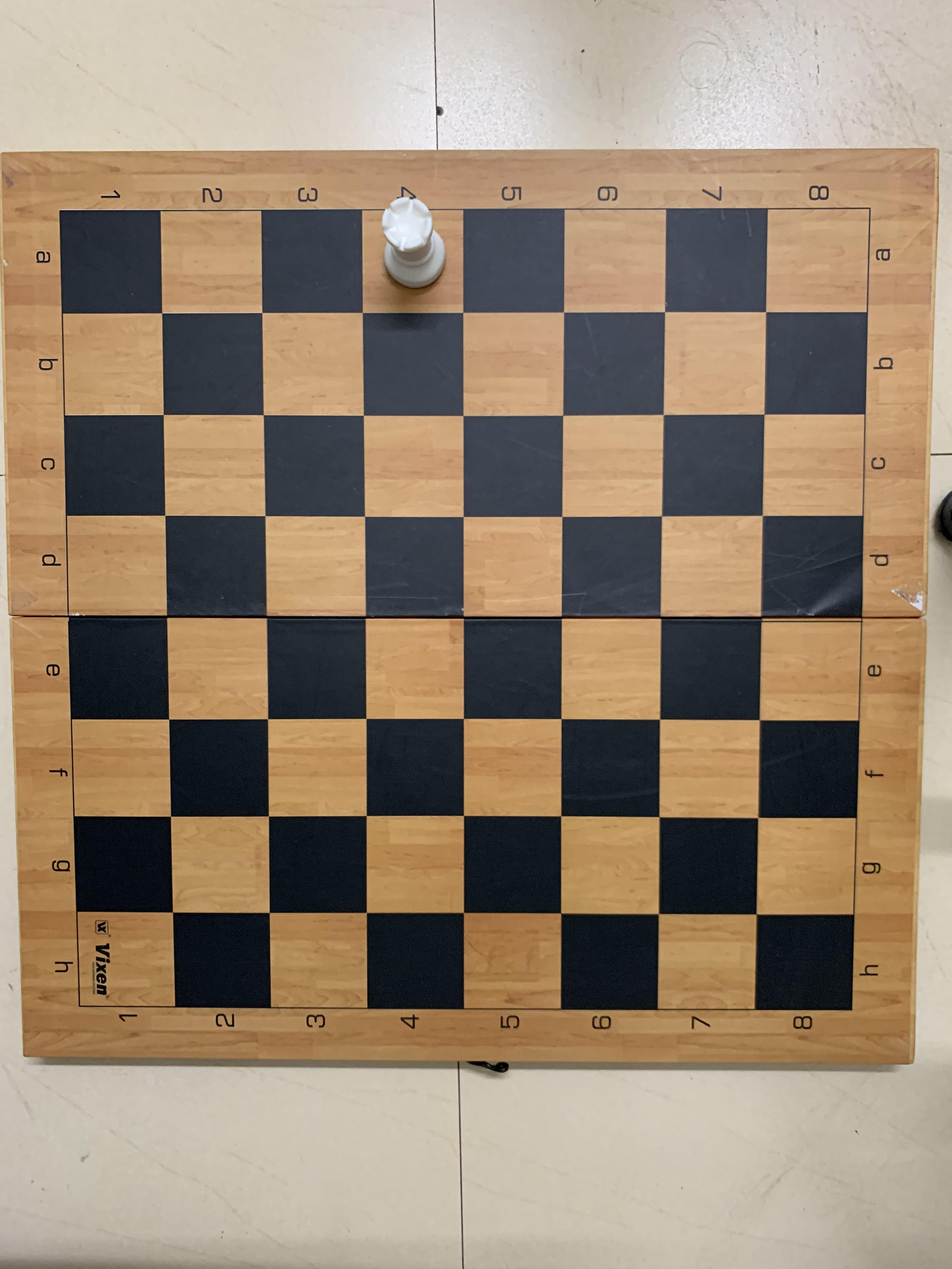white_rook: (362, 189, 468, 311)
